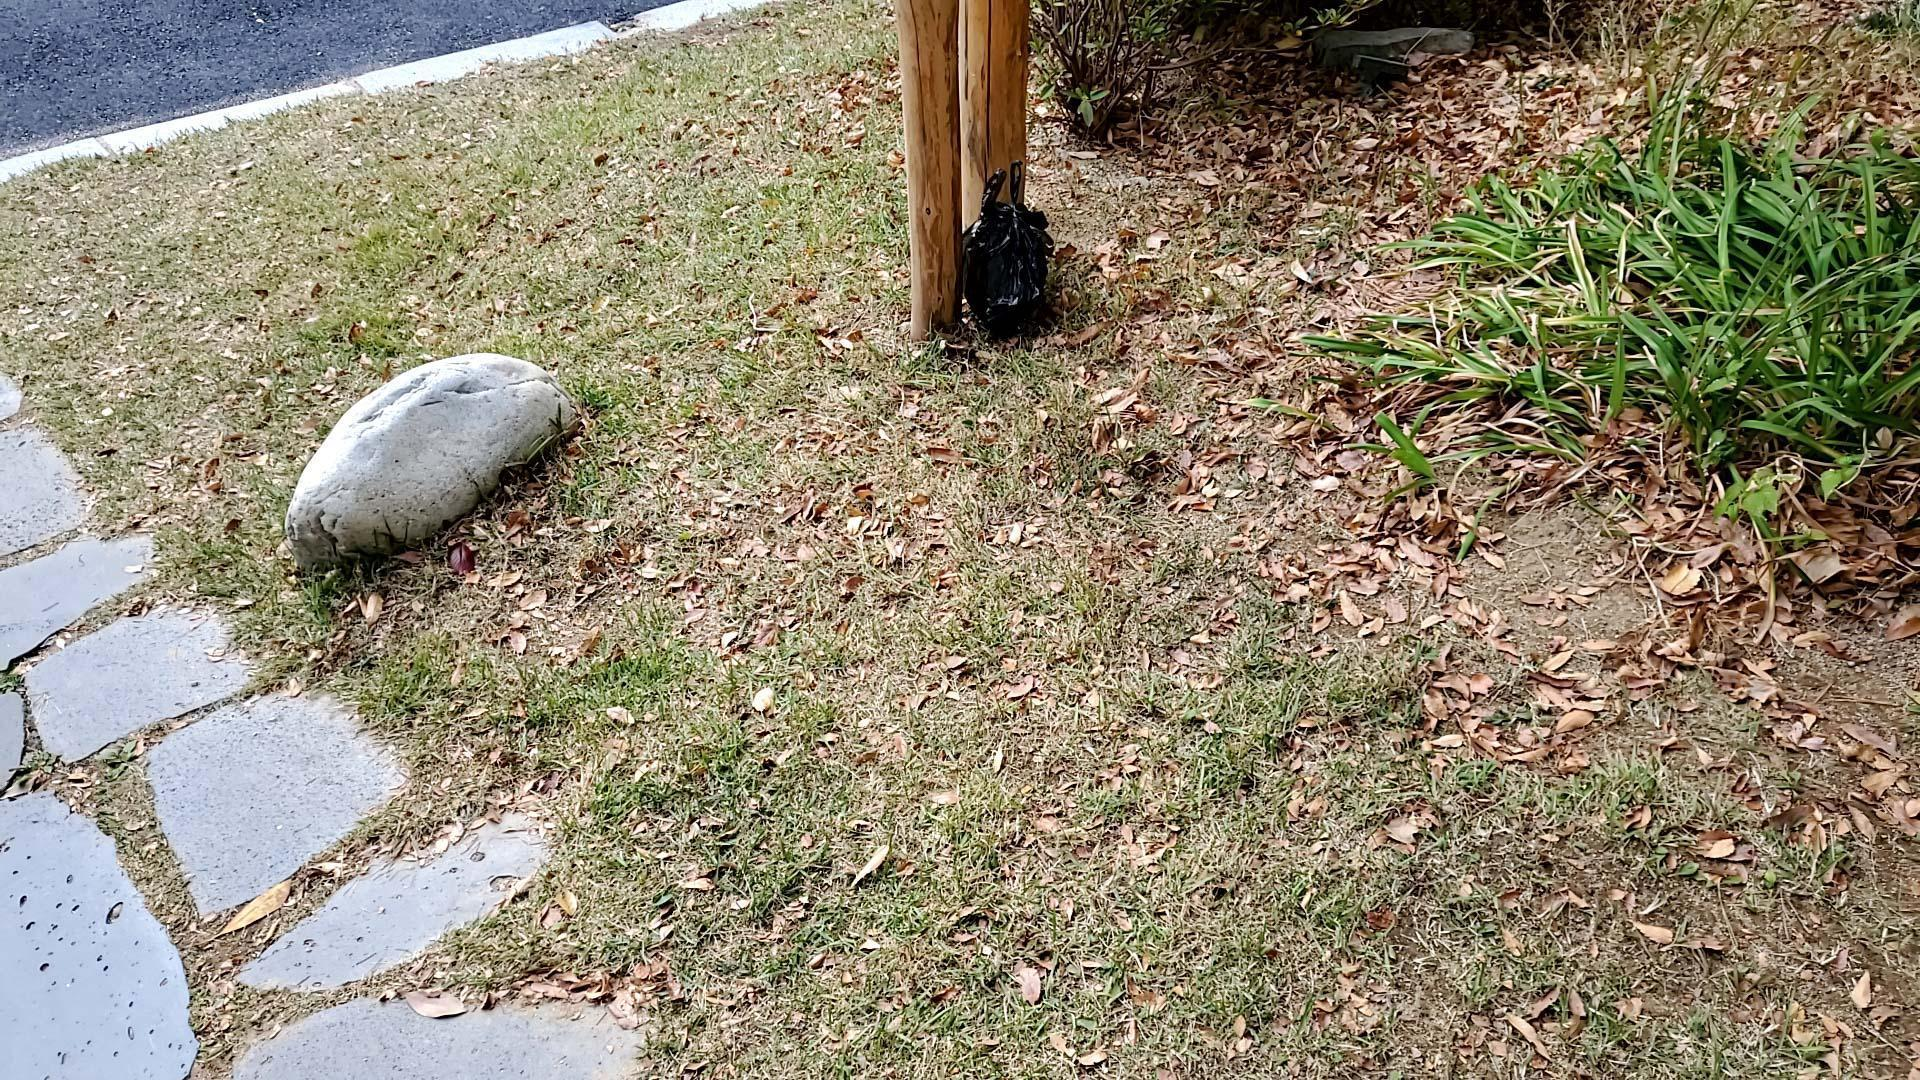black_bag: (953, 157, 1062, 343)
